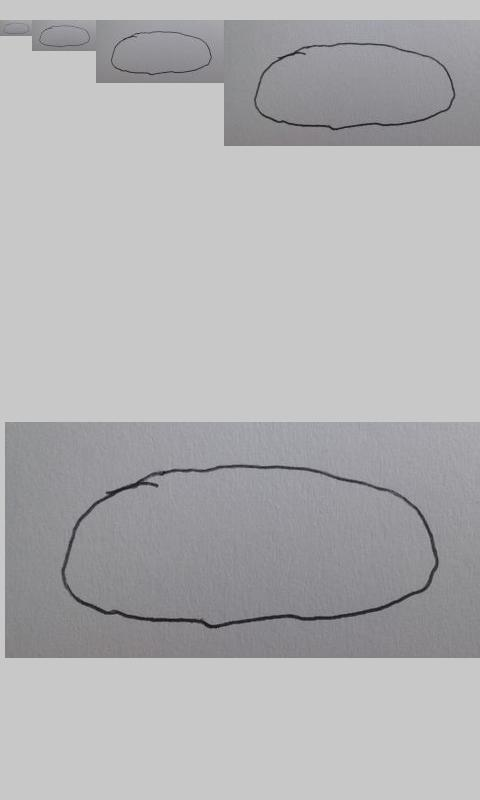chip: (60, 463, 441, 628), (252, 41, 456, 131), (110, 30, 212, 76), (39, 24, 91, 48), (2, 22, 30, 34)
